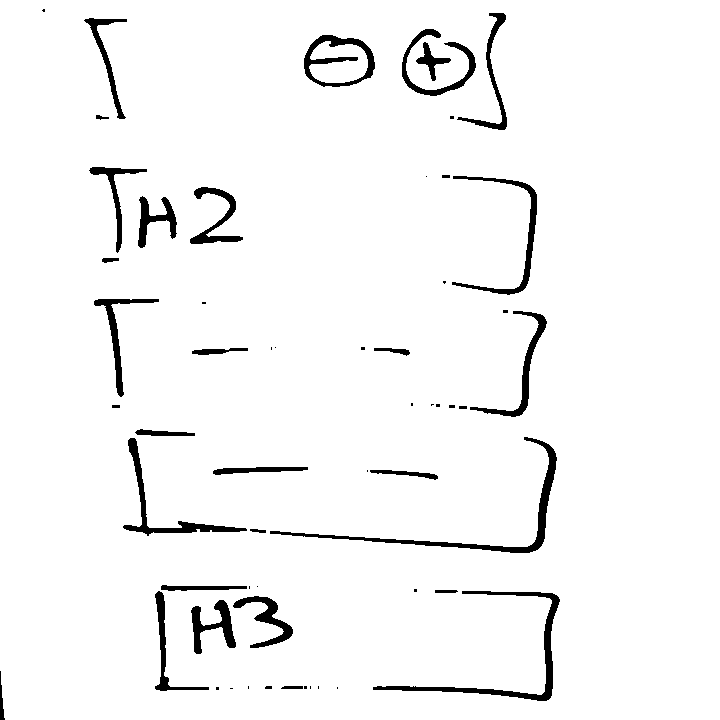button: (90, 297, 551, 425), (121, 426, 561, 556)
heading2: (90, 162, 542, 300)
heading3: (151, 579, 572, 708)
inline stepper bar: (80, 11, 516, 137)
